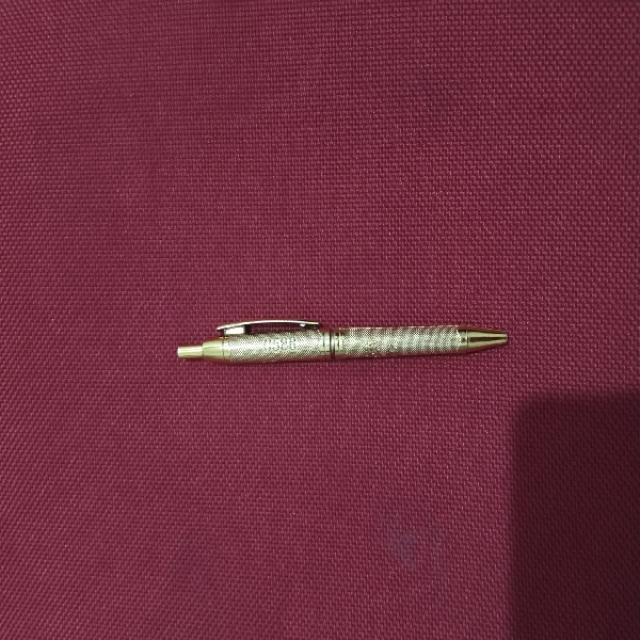signature pen: (178, 320, 507, 363)
